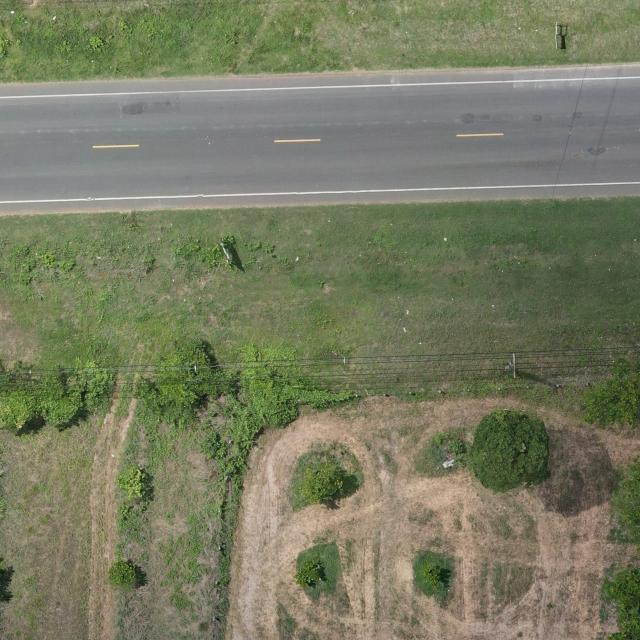Tree: (466, 407, 556, 494), (0, 373, 91, 435), (578, 368, 640, 431), (588, 565, 640, 640), (604, 455, 640, 553), (298, 459, 354, 512), (118, 465, 152, 501), (293, 554, 326, 590), (108, 560, 140, 589), (420, 562, 445, 588)
